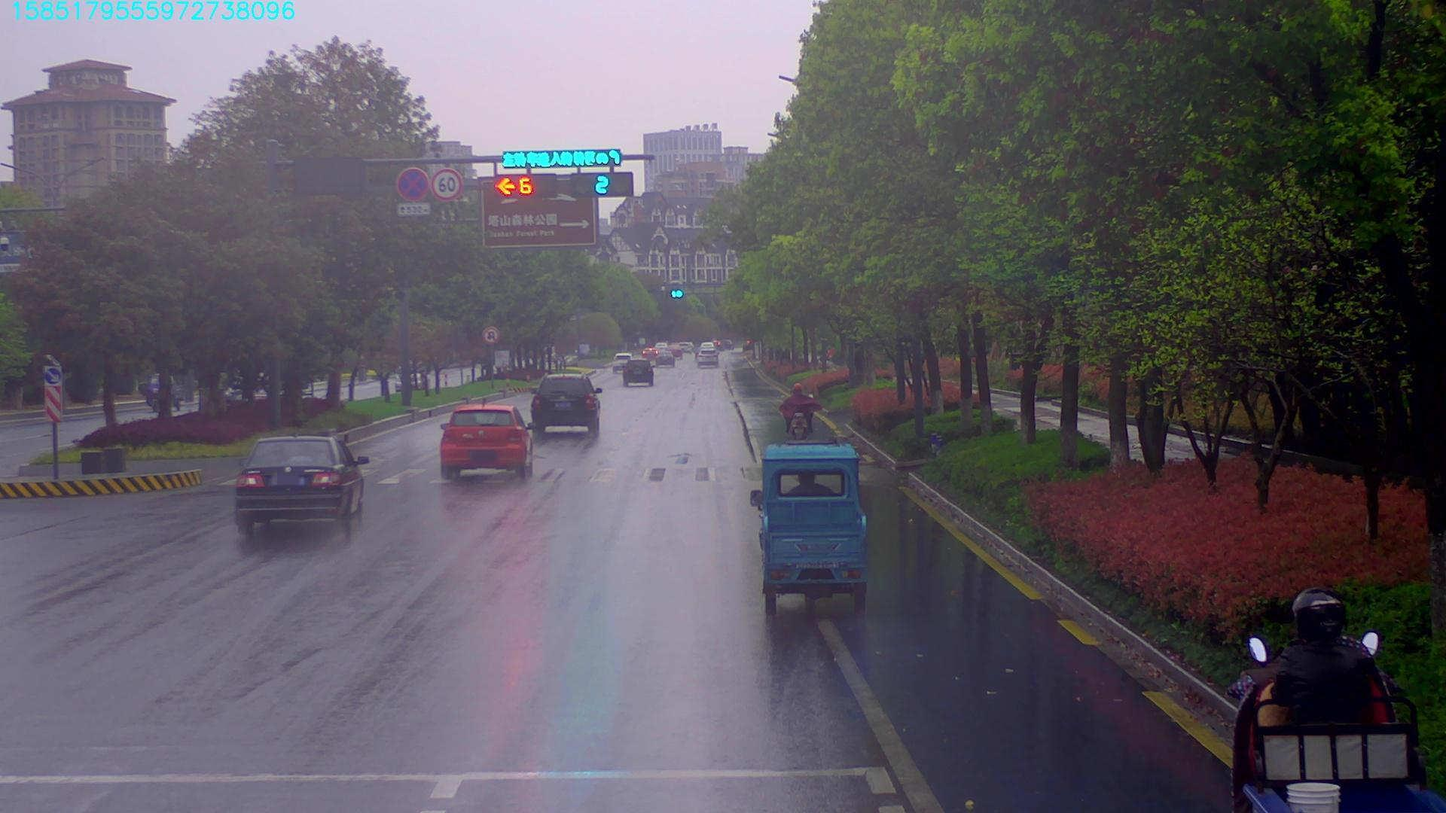green: (585, 175, 624, 190)
red: (494, 179, 550, 197)
wait_on: (505, 153, 618, 164)
